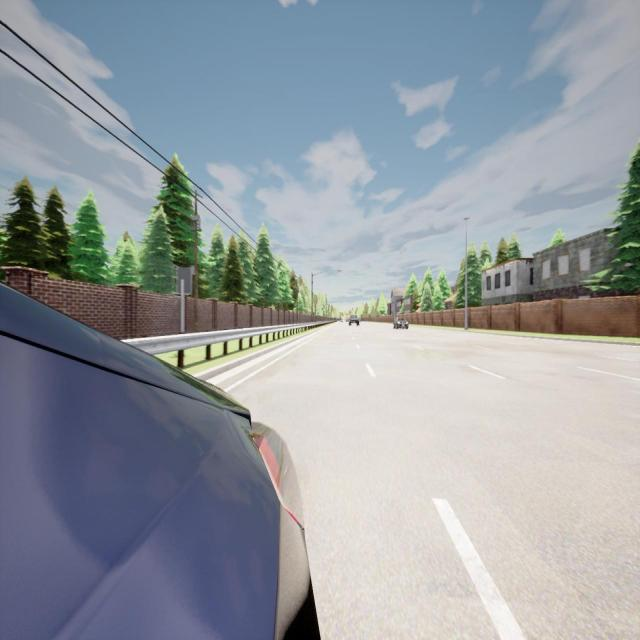Traffic_Signs: (177, 269, 192, 295)
Vehicle: (0, 284, 318, 638), (394, 317, 408, 330), (349, 314, 360, 327)
